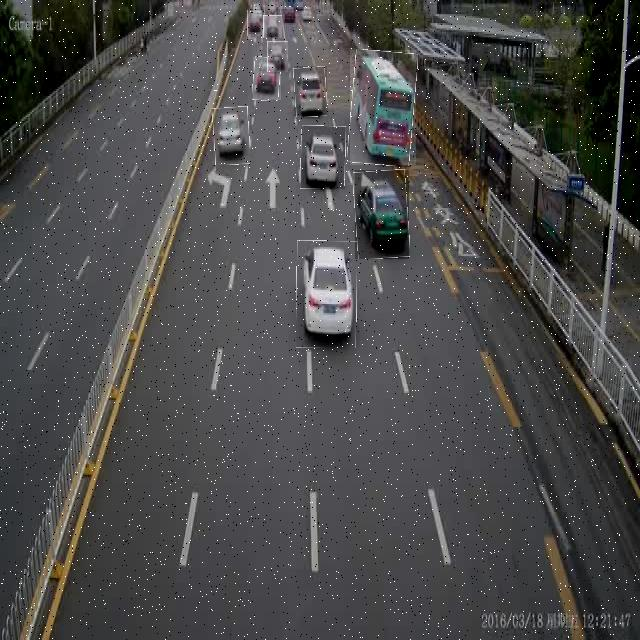Bus: (350, 50, 416, 165)
Car: (297, 241, 357, 348), (355, 170, 409, 259), (301, 126, 345, 189), (213, 106, 250, 165), (294, 66, 327, 116), (253, 57, 281, 100), (267, 41, 288, 72), (263, 15, 282, 38), (247, 10, 262, 36)
